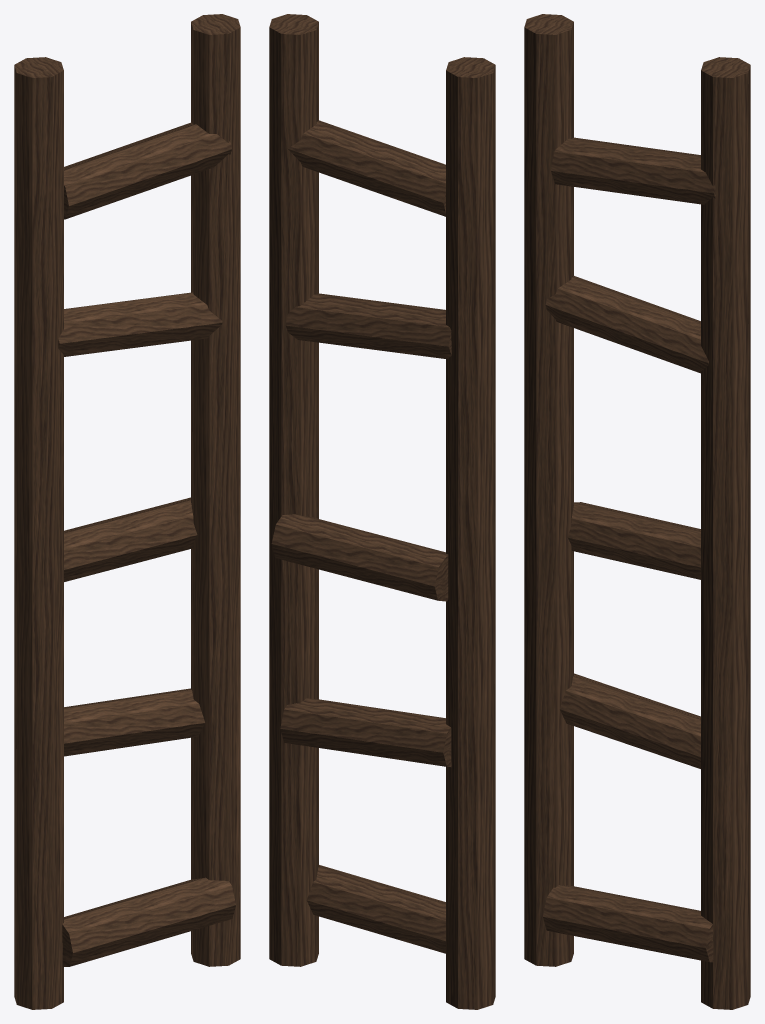
File: Escada.fbx
3 views of the same model, side by side, from view 1: azimuth 30°, elevation 25°; view 2: azimuth 150°, elevation 25°; view 3: azimuth 330°, elevation 25° (orthographic).
Parts seen in each view (by area): view 1: Escada; view 2: Escada; view 3: Escada.
Part boxes in pixels (bbox=[...]): Escada: bbox=[14, 14, 240, 1009]; Escada: bbox=[269, 14, 495, 1009]; Escada: bbox=[524, 14, 750, 1009].
Size of the model in its own units: 99.4 by 400 by 33.88.
1 material, 1 textured.
